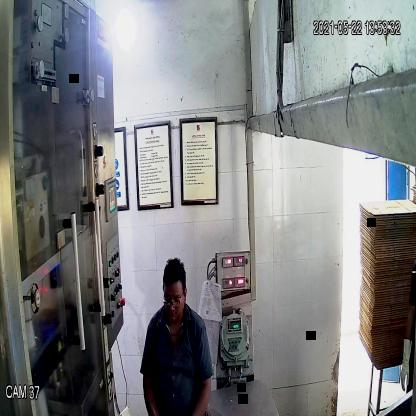goggles: (159, 289, 185, 310)
